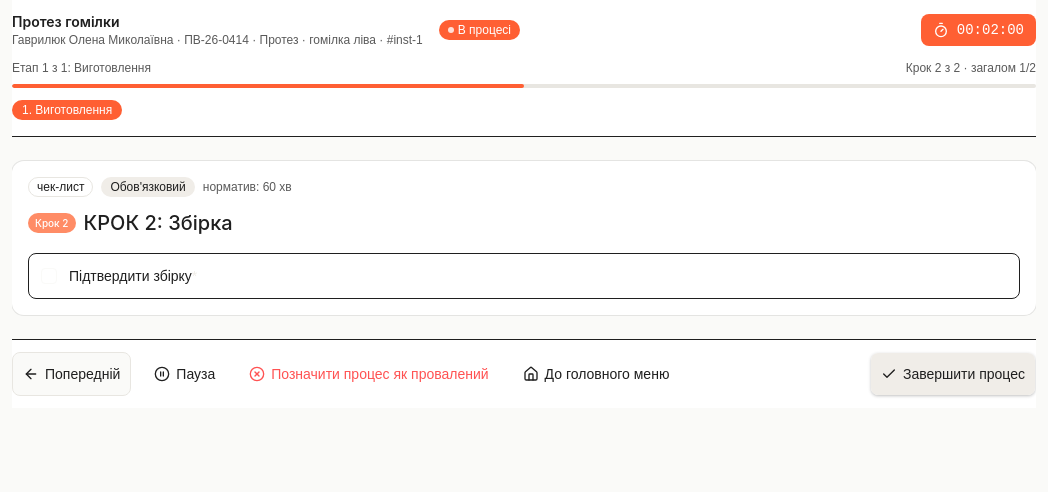
Test: WizardScreen › keeps the process timer running across step navigation (does not reset to zero)
This screenshot has width=1048, height=492.
Expected: the text "КРОК 2: Збірка" is shown, [84,209,233,237]
Expected: the text "00:02:00" is shown, [921,14,1036,46]
Click the button "Попередній" at (72, 374), box [12,352,131,396]
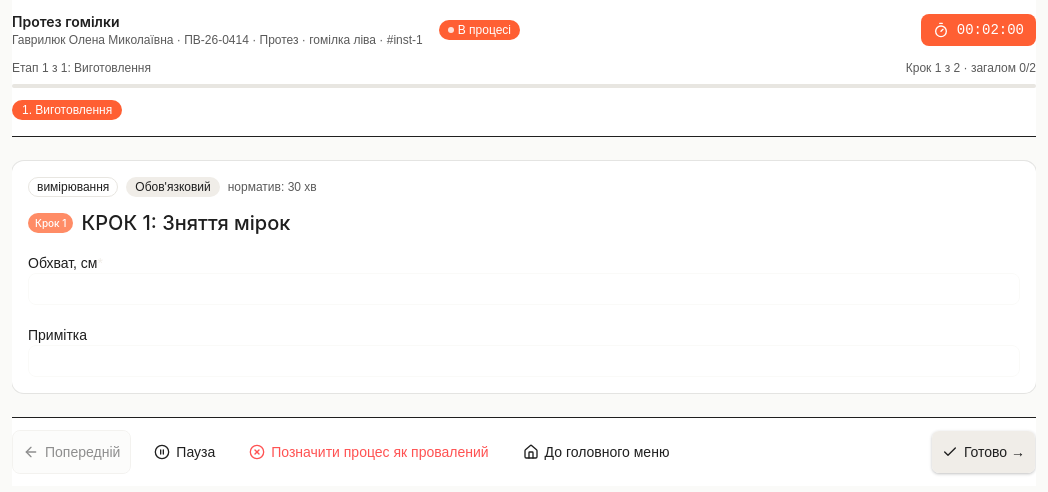
Expected: the text "00:02:00" is shown, [921,14,1036,46]
Now the text "КРОК 1: Зняття мірок" is shown, box [82,209,290,237]
